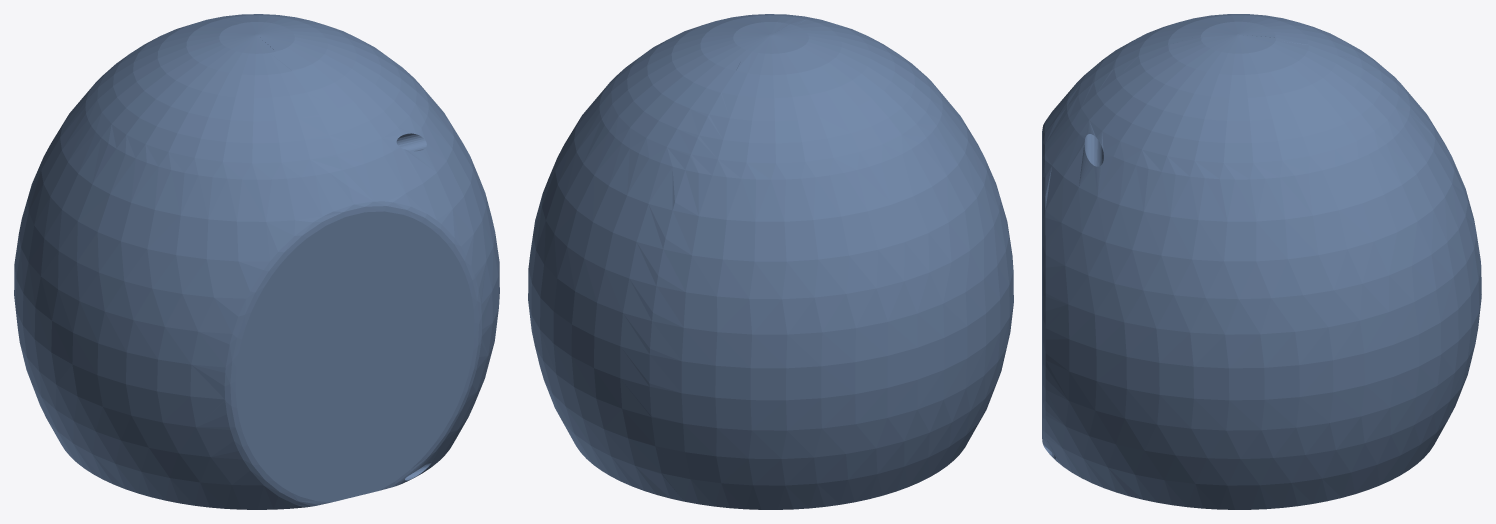
File: right_arm6.dae
3 renders of one model, left to right at view 1: azimuth 30°, elevation 25°; view 2: azimuth 150°, elevation 25°; view 3: azimuth 270°, elevation 25°, orthographic.
Parts seen in each view (by area): view 1: left-lwr-3-link67_iv_MatrixTransform__Geometry_0; view 2: left-lwr-3-link67_iv_MatrixTransform__Geometry_0; view 3: left-lwr-3-link67_iv_MatrixTransform__Geometry_0.
Part boxes in pixels (x1,y1,x2,y2): left-lwr-3-link67_iv_MatrixTransform__Geometry_0: (14, 14, 499, 509); left-lwr-3-link67_iv_MatrixTransform__Geometry_0: (528, 14, 1013, 509); left-lwr-3-link67_iv_MatrixTransform__Geometry_0: (1042, 14, 1481, 509).
Size of the model in its own units: 0.1406 by 0.1272 by 0.1245.
